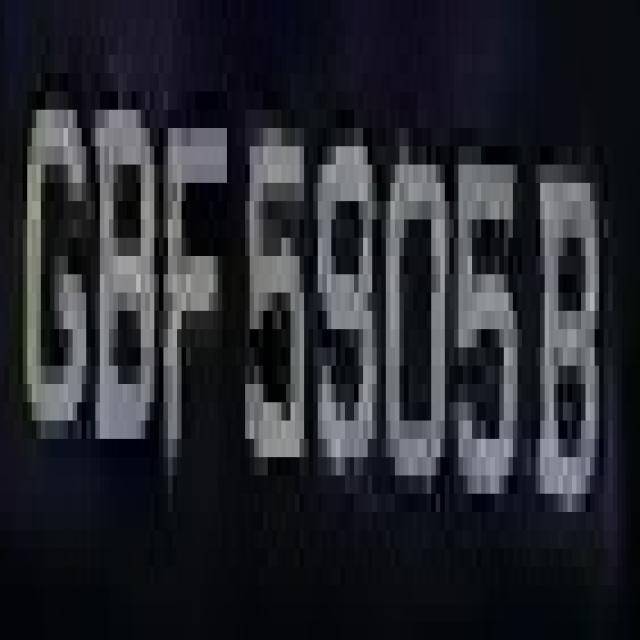0: (386, 91, 454, 512)
5: (232, 73, 308, 512), (440, 110, 518, 512)
9: (309, 110, 381, 530)
B: (531, 146, 608, 567), (82, 55, 159, 475)
F: (150, 55, 231, 512)
G: (23, 37, 90, 512)
